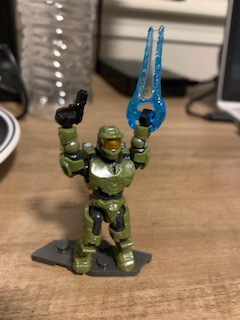chief: (52, 105, 153, 273)
pistol: (54, 89, 89, 128)
spartan: (50, 103, 151, 271)
up: (54, 104, 154, 198)
